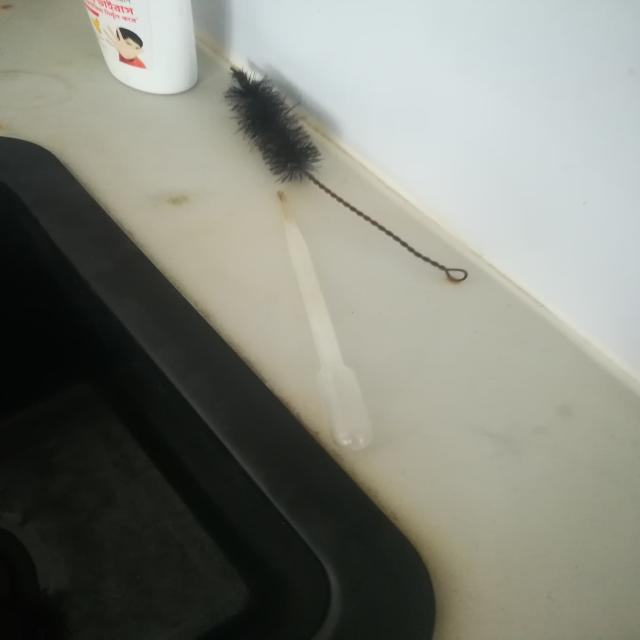Pipette: (228, 160, 418, 472)
